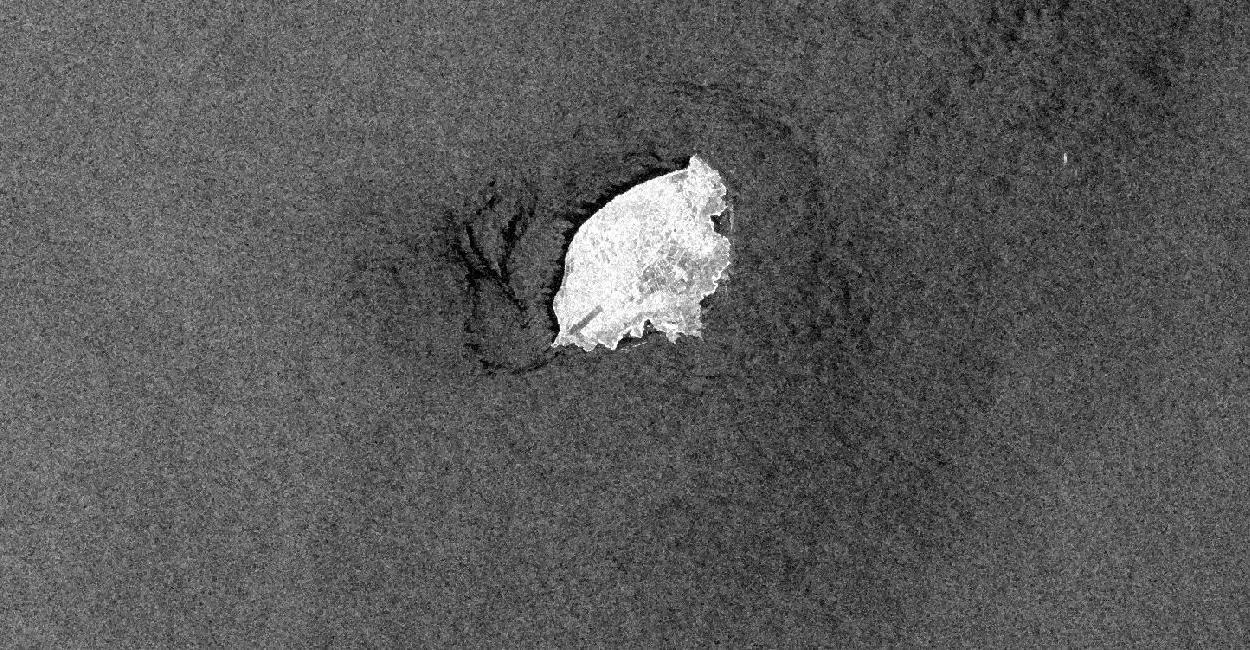Look-alike: (430, 162, 675, 380)
